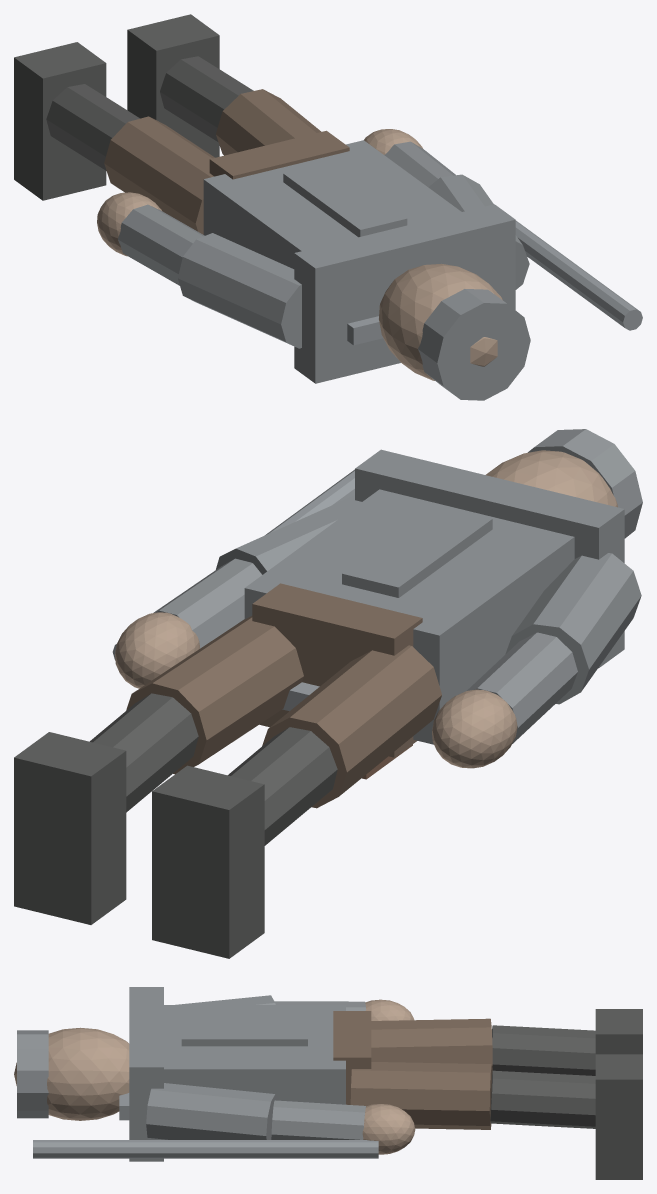
The model's file is SM_CharacterGuard_Preview.glb.
3 views of the same model, one above another, from view 1: azimuth 30°, elevation 25°; view 2: azimuth 150°, elevation 25°; view 3: azimuth 270°, elevation 25° (orthographic). The views are drawn at different scales.
Parts seen in each view (by area): view 1: SM_CharacterGuard_Preview_001, SM_CharacterGuard_Preview_017, SM_CharacterGuard_Preview_011, SM_CharacterGuard_Preview_015, SM_CharacterGuard_Preview_010, SM_CharacterGuard_Preview_013, SM_CharacterGuard_Preview_005, SM_CharacterGuard_Preview_016, SM_CharacterGuard_Preview_000, SM_CharacterGuard_Preview_012, SM_CharacterGuard_Preview_006, SM_CharacterGuard_Preview_007 (+8 smaller); view 2: SM_CharacterGuard_Preview_017, SM_CharacterGuard_Preview_011, SM_CharacterGuard_Preview_005, SM_CharacterGuard_Preview_013, SM_CharacterGuard_Preview_007, SM_CharacterGuard_Preview_001, SM_CharacterGuard_Preview_014, SM_CharacterGuard_Preview_010, SM_CharacterGuard_Preview_000, SM_CharacterGuard_Preview_012, SM_CharacterGuard_Preview_006, SM_CharacterGuard_Preview_009 (+7 smaller); view 3: SM_CharacterGuard_Preview_017, SM_CharacterGuard_Preview_007, SM_CharacterGuard_Preview_016, SM_CharacterGuard_Preview_024, SM_CharacterGuard_Preview_004, SM_CharacterGuard_Preview_005, SM_CharacterGuard_Preview_006, SM_CharacterGuard_Preview_013, SM_CharacterGuard_Preview_012, SM_CharacterGuard_Preview_001, SM_CharacterGuard_Preview_003, SM_CharacterGuard_Preview_000 (+8 smaller).
Boxes of the visible parts, bbox=[...] form: SM_CharacterGuard_Preview_001: bbox=[294, 204, 515, 383]; SM_CharacterGuard_Preview_017: bbox=[203, 140, 461, 268]; SM_CharacterGuard_Preview_011: bbox=[14, 42, 106, 200]; SM_CharacterGuard_Preview_015: bbox=[418, 289, 530, 400]; SM_CharacterGuard_Preview_010: bbox=[178, 233, 301, 348]; SM_CharacterGuard_Preview_013: bbox=[104, 116, 214, 234]; SM_CharacterGuard_Preview_005: bbox=[127, 14, 219, 157]; SM_CharacterGuard_Preview_016: bbox=[379, 263, 502, 380]; SM_CharacterGuard_Preview_000: bbox=[283, 162, 407, 237]; SM_CharacterGuard_Preview_012: bbox=[46, 84, 139, 170]; SM_CharacterGuard_Preview_006: bbox=[160, 56, 253, 141]; SM_CharacterGuard_Preview_007: bbox=[216, 89, 321, 155]; SM_CharacterGuard_Preview_017: bbox=[244, 489, 574, 744]; SM_CharacterGuard_Preview_011: bbox=[152, 765, 264, 958]; SM_CharacterGuard_Preview_005: bbox=[14, 732, 126, 924]; SM_CharacterGuard_Preview_013: bbox=[262, 645, 441, 808]; SM_CharacterGuard_Preview_007: bbox=[126, 616, 303, 774]; SM_CharacterGuard_Preview_001: bbox=[355, 449, 624, 668]; SM_CharacterGuard_Preview_014: bbox=[252, 583, 422, 757]; SM_CharacterGuard_Preview_010: bbox=[505, 553, 641, 704]; SM_CharacterGuard_Preview_000: bbox=[342, 505, 492, 597]; SM_CharacterGuard_Preview_012: bbox=[228, 727, 337, 845]; SM_CharacterGuard_Preview_006: bbox=[90, 693, 198, 812]; SM_CharacterGuard_Preview_009: bbox=[467, 632, 577, 743]; SM_CharacterGuard_Preview_017: bbox=[164, 1005, 345, 1104]; SM_CharacterGuard_Preview_007: bbox=[350, 1062, 492, 1129]; SM_CharacterGuard_Preview_016: bbox=[14, 1027, 129, 1120]; SM_CharacterGuard_Preview_024: bbox=[33, 1140, 378, 1158]; SM_CharacterGuard_Preview_004: bbox=[146, 1083, 278, 1139]; SM_CharacterGuard_Preview_005: bbox=[595, 1054, 642, 1179]; SM_CharacterGuard_Preview_006: bbox=[490, 1070, 595, 1128]; SM_CharacterGuard_Preview_013: bbox=[371, 1018, 492, 1067]; SM_CharacterGuard_Preview_012: bbox=[492, 1025, 595, 1075]; SM_CharacterGuard_Preview_001: bbox=[129, 987, 163, 1161]; SM_CharacterGuard_Preview_003: bbox=[271, 1100, 365, 1139]; SM_CharacterGuard_Preview_000: bbox=[181, 1020, 307, 1046].
Size of the model in its own units: 0.9798 by 0.41 by 1.99.
